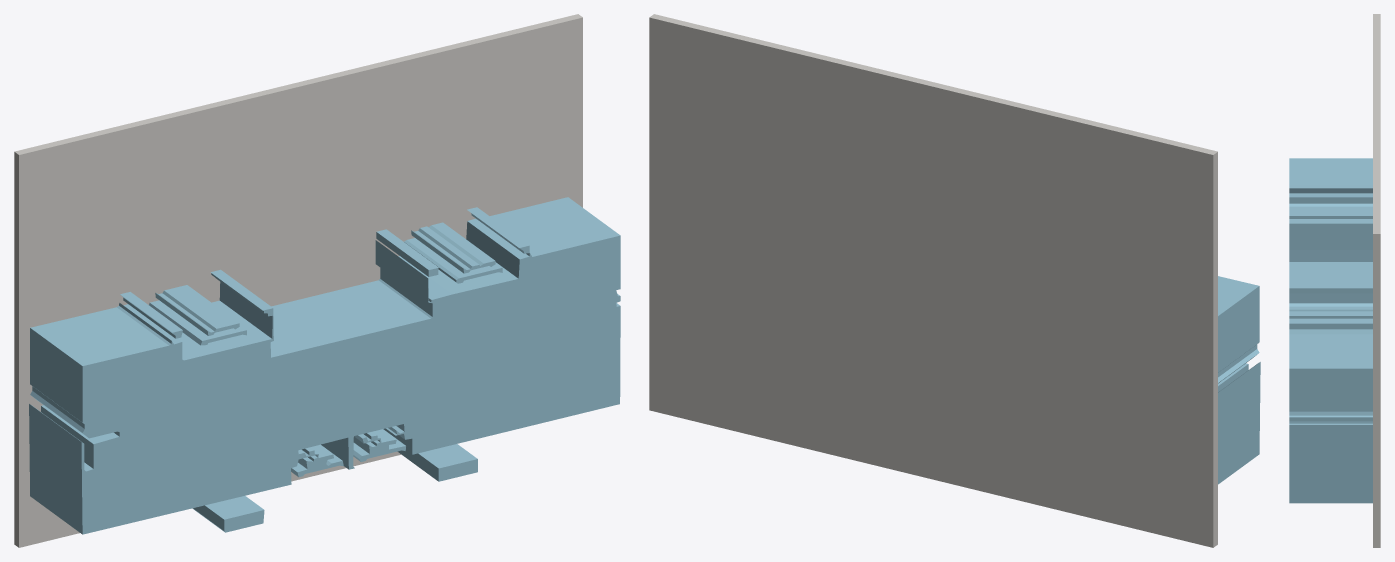
The picture shows the model from 3 angles, left to right: view 1: azimuth 30°, elevation 25°; view 2: azimuth 150°, elevation 25°; view 3: azimuth 270°, elevation 25°; orthographic projection. The views are drawn at different scales.
Parts seen in each view (by area): view 1: world; view 2: world; view 3: world.
Part boxes in pixels (left/top/right/bottom): world: left=14, top=14, right=620, bottom=547; world: left=649, top=14, right=1260, bottom=547; world: left=1289, top=14, right=1380, bottom=547.
Bounding box in the file's own units: 10.23 × 6.81 × 1.8.
